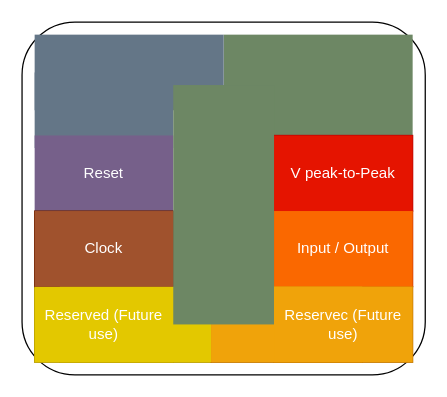
Some shapes in this 447 by 397 pixel diagram are drawn without their labels. Each missing label, with the box of its shape:
Ground: (223, 34, 412, 135)
Voltage in: (34, 34, 223, 110)
